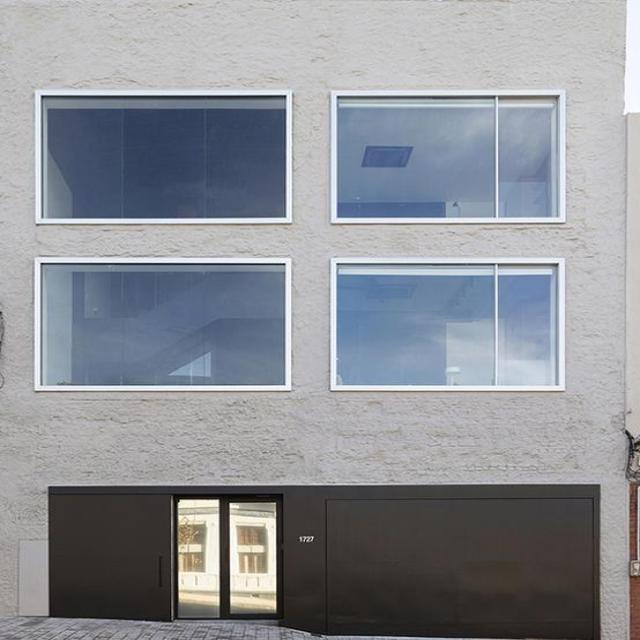door: (173, 493, 283, 621)
window: (38, 96, 291, 219), (40, 263, 293, 386), (334, 96, 561, 220), (335, 263, 562, 387)
